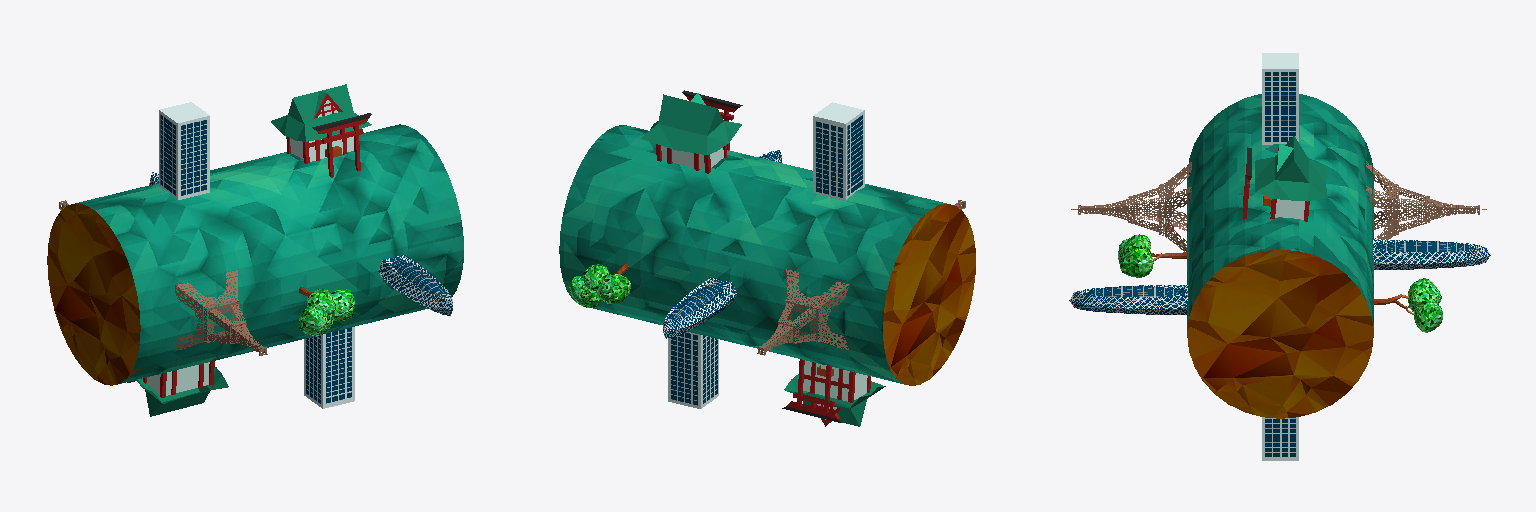
The picture shows the model from 3 angles: view 1: azimuth 30°, elevation 25°; view 2: azimuth 150°, elevation 25°; view 3: azimuth 270°, elevation 25°; orthographic projection.
Parts seen in each view (by area): view 1: group5 model_map_summer:pCylinder1, group5 model_mapobj_biru:pCube2, group5 model_mapobj_biru1:pCube2, model_mapobj_tera:group12 model_mapobj_tera:pCube1 model_mapobj_, model_mapobj_hal:group1 model_mapobj_hal:group2 model_mapobj_hal, model_mapobj_tou:group1 model_mapobj_tou:pCube1 model_mapobj_tou, model_mapobj_tera1:group12 model_mapobj_tera1:pCube1 model_mapob, model_mapobj_tera:group12 model_mapobj_tera:group13 model_mapobj, model_mapobj_tera1:group12 model_mapobj_tera1:pCube2 model_mapob, model_wood_summer:group4 model_wood_summer:pasted__pSphere1 mode, model_wood_summer:group4 model_wood_summer:pSphere1 model_wood_s, model_mapobj_tou:group1 model_mapobj_tou:pCube2 model_mapobj_tou (+1 smaller); view 2: group5 model_map_summer:pCylinder1, group5 model_mapobj_biru:pCube2, model_mapobj_tera:group12 model_mapobj_tera:pCube1 model_mapobj_, group5 model_mapobj_biru1:pCube2, model_mapobj_hal1:group1 model_mapobj_hal1:group2 model_mapobj_h, model_mapobj_tou1:group1 model_mapobj_tou1:pCube1 group5 model_m, model_mapobj_tera1:group12 model_mapobj_tera1:group13 model_mapo, model_mapobj_tera1:group12 model_mapobj_tera1:pCube1 model_mapob, model_mapobj_tera1:group12 model_mapobj_tera1:pCube2 model_mapob, model_wood_summer1:group4 model_wood_summer1:pSphere1 model_wood, model_mapobj_tera:group12 model_mapobj_tera:pCube2 model_mapobj_, model_wood_summer1:group4 model_wood_summer1:pasted__pSphere1 mo (+2 smaller); view 3: group5 model_map_summer:pCylinder1, group5 model_mapobj_biru:pCube2, model_mapobj_hal:group1 model_mapobj_hal:group2 model_mapobj_hal, model_mapobj_hal1:group1 model_mapobj_hal1:group2 model_mapobj_h, model_mapobj_tera:group12 model_mapobj_tera:pCube1 model_mapobj_, group5 model_mapobj_biru1:pCube2, model_mapobj_tou:group1 model_mapobj_tou:pCube1 model_mapobj_tou, model_mapobj_tou1:group1 model_mapobj_tou1:pCube1 group5 model_m, model_mapobj_tou1:group1 model_mapobj_tou1:pCube2 group5 model_m, model_mapobj_tou:group1 model_mapobj_tou:pCube2 model_mapobj_tou, model_wood_summer:group4 model_wood_summer:pSphere1 model_wood_s, model_wood_summer1:group4 model_wood_summer1:pasted__pSphere1 mo.
Part boxes in pixels (bbox=[...]): group5 model_map_summer:pCylinder1: bbox=[47, 124, 463, 385]; group5 model_mapobj_biru:pCube2: bbox=[159, 102, 209, 199]; group5 model_mapobj_biru1:pCube2: bbox=[304, 327, 354, 408]; model_mapobj_tera:group12 model_mapobj_tera:pCube1 model_mapobj_: bbox=[271, 84, 371, 141]; model_mapobj_hal:group1 model_mapobj_hal:group2 model_mapobj_hal: bbox=[378, 255, 452, 315]; model_mapobj_tou:group1 model_mapobj_tou:pCube1 model_mapobj_tou: bbox=[175, 270, 239, 350]; model_mapobj_tera1:group12 model_mapobj_tera1:pCube1 model_mapob: bbox=[136, 367, 228, 416]; model_mapobj_tera:group12 model_mapobj_tera:group13 model_mapobj: bbox=[312, 113, 371, 177]; model_mapobj_tera1:group12 model_mapobj_tera1:pCube2 model_mapob: bbox=[147, 362, 209, 395]; model_wood_summer:group4 model_wood_summer:pasted__pSphere1 mode: bbox=[298, 307, 332, 335]; model_wood_summer:group4 model_wood_summer:pSphere1 model_wood_s: bbox=[330, 289, 354, 320]; model_mapobj_tou:group1 model_mapobj_tou:pCube2 model_mapobj_tou: bbox=[208, 304, 246, 343]; group5 model_map_summer:pCylinder1: bbox=[559, 125, 975, 385]; group5 model_mapobj_biru:pCube2: bbox=[813, 102, 864, 200]; model_mapobj_tera:group12 model_mapobj_tera:pCube1 model_mapobj_: bbox=[641, 94, 741, 154]; group5 model_mapobj_biru1:pCube2: bbox=[668, 332, 718, 408]; model_mapobj_hal1:group1 model_mapobj_hal1:group2 model_mapobj_h: bbox=[663, 278, 736, 338]; model_mapobj_tou1:group1 model_mapobj_tou1:pCube1 group5 model_m: bbox=[785, 269, 849, 349]; model_mapobj_tera1:group12 model_mapobj_tera1:group13 model_mapo: bbox=[782, 359, 842, 422]; model_mapobj_tera1:group12 model_mapobj_tera1:pCube1 model_mapob: bbox=[784, 374, 885, 426]; model_mapobj_tera1:group12 model_mapobj_tera1:pCube2 model_mapob: bbox=[803, 360, 867, 401]; model_wood_summer1:group4 model_wood_summer1:pSphere1 model_wood: bbox=[598, 274, 630, 303]; model_mapobj_tera:group12 model_mapobj_tera:pCube2 model_mapobj_: bbox=[661, 146, 723, 170]; model_wood_summer1:group4 model_wood_summer1:pasted__pSphere1 mo: bbox=[569, 276, 600, 307]; group5 model_map_summer:pCylinder1: bbox=[1187, 94, 1373, 418]; group5 model_mapobj_biru:pCube2: bbox=[1262, 53, 1298, 144]; model_mapobj_hal:group1 model_mapobj_hal:group2 model_mapobj_hal: bbox=[1069, 285, 1187, 314]; model_mapobj_hal1:group1 model_mapobj_hal1:group2 model_mapobj_h: bbox=[1373, 240, 1490, 269]; model_mapobj_tera:group12 model_mapobj_tera:pCube1 model_mapobj_: bbox=[1255, 136, 1326, 201]; group5 model_mapobj_biru1:pCube2: bbox=[1262, 417, 1298, 460]; model_mapobj_tou:group1 model_mapobj_tou:pCube1 model_mapobj_tou: bbox=[1159, 162, 1191, 251]; model_mapobj_tou1:group1 model_mapobj_tou1:pCube1 group5 model_m: bbox=[1366, 161, 1398, 239]; model_mapobj_tou1:group1 model_mapobj_tou1:pCube2 group5 model_m: bbox=[1399, 187, 1429, 231]; model_mapobj_tou:group1 model_mapobj_tou:pCube2 model_mapobj_tou: bbox=[1128, 187, 1158, 231]; model_wood_summer:group4 model_wood_summer:pSphere1 model_wood_s: bbox=[1120, 248, 1153, 277]; model_wood_summer1:group4 model_wood_summer1:pasted__pSphere1 mo: bbox=[1414, 302, 1442, 332].
Size of the model in its own units: 3.18 by 3.02 by 3.59.
Materials: 28 (8 with a texture image).